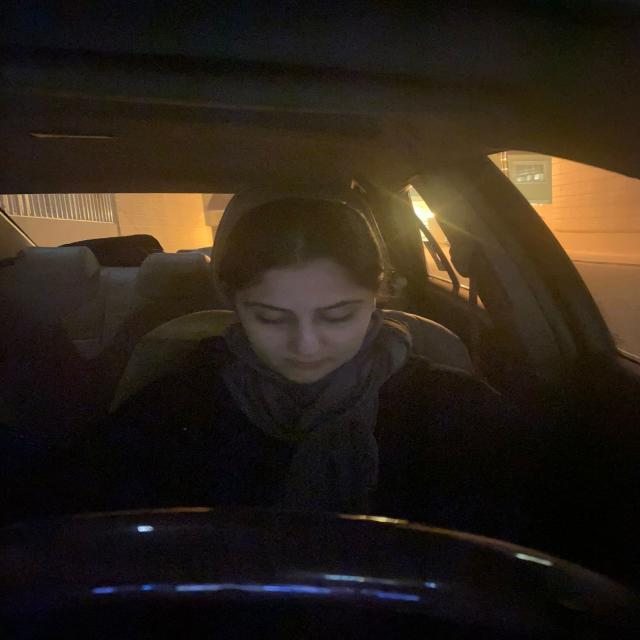drowsy: (214, 188, 398, 391)
